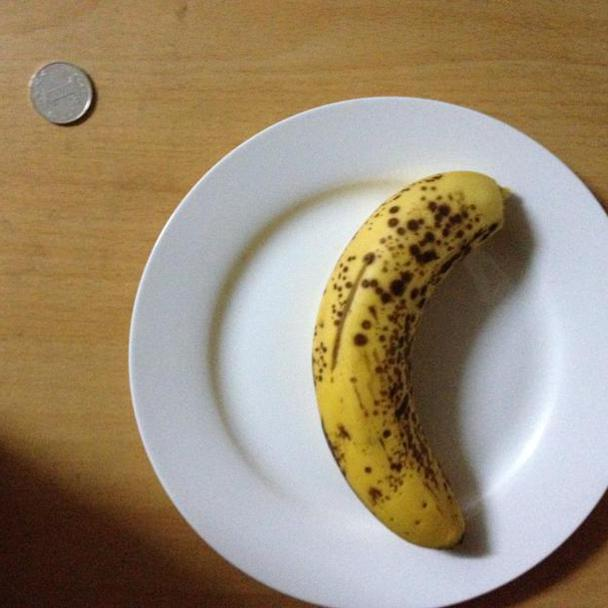banana: (306, 172, 512, 550)
